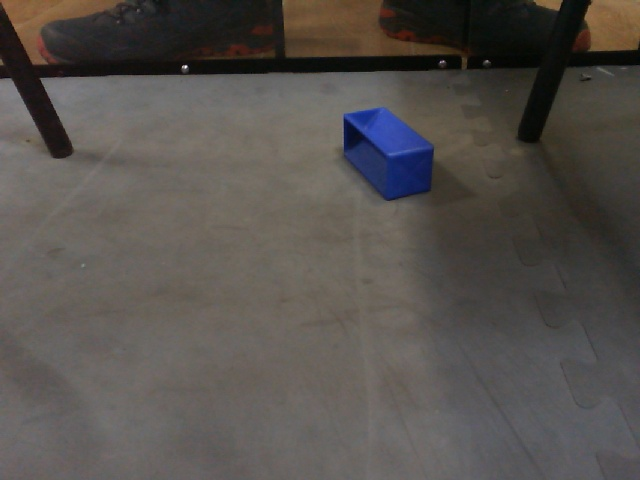BlueSample: (336, 100, 436, 205)
